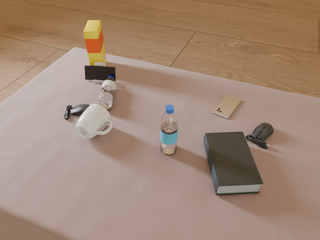book: (204, 132, 263, 195)
bottle: (161, 105, 178, 154), (97, 75, 116, 110)
box: (84, 20, 107, 65)
cup: (76, 104, 112, 139)
mouse: (245, 123, 273, 149), (64, 104, 90, 119)
phone: (213, 94, 241, 119), (85, 65, 115, 81)
